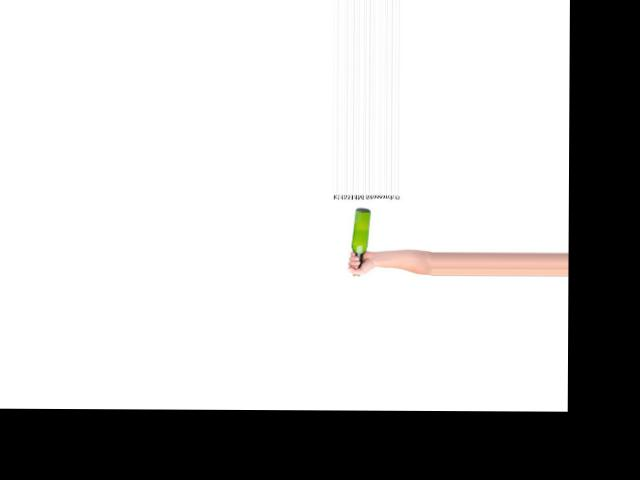beer: (352, 207, 371, 275)
